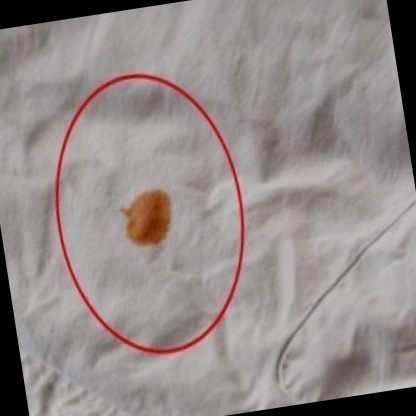kimchi: (102, 179, 188, 261)
